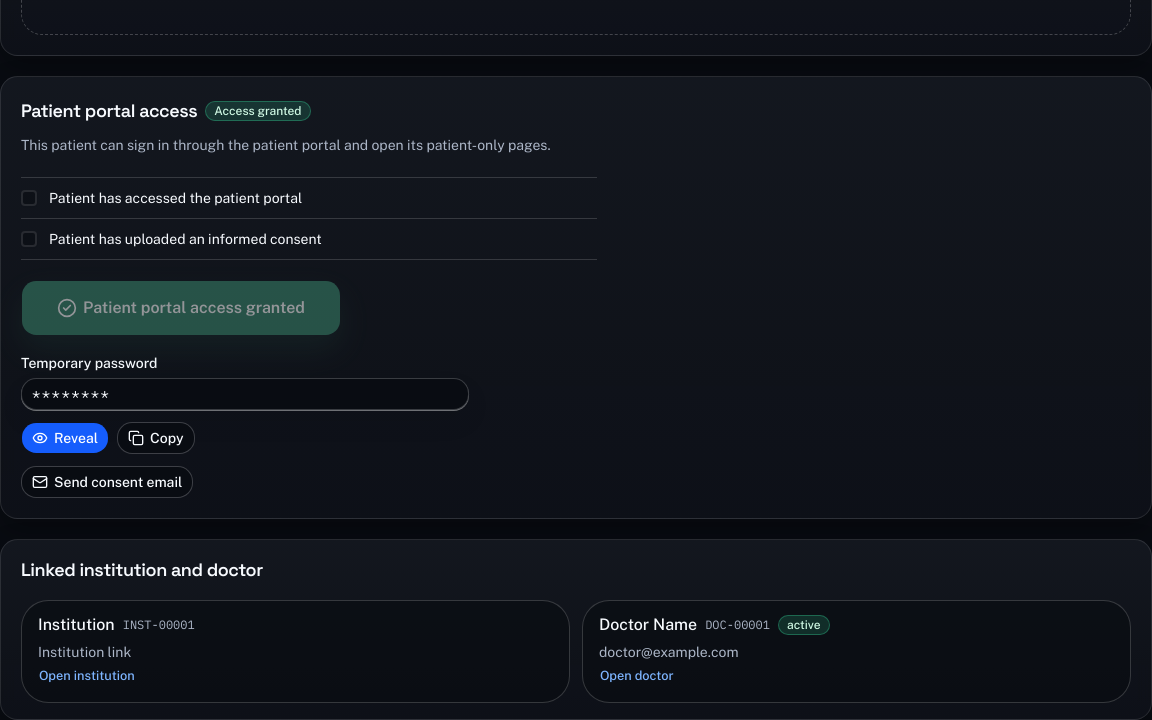
Test case: PatientWorkbench portal credentials › lets the allowlisted admin send the consent email after portal access exists
(page scrolled)
Click the button "Send consent email" at {"x": 107, "y": 482}, box [21,466,193,498]
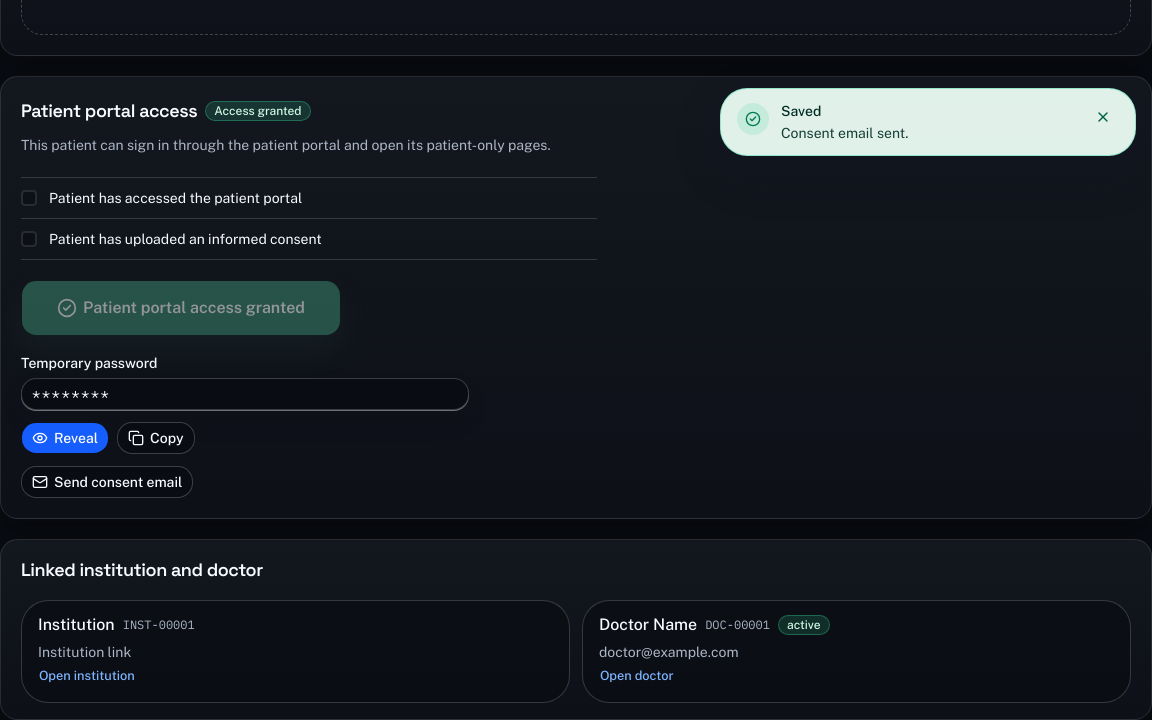
Check: the text "Consent email sent." is shown, box [781,125,908,141]
